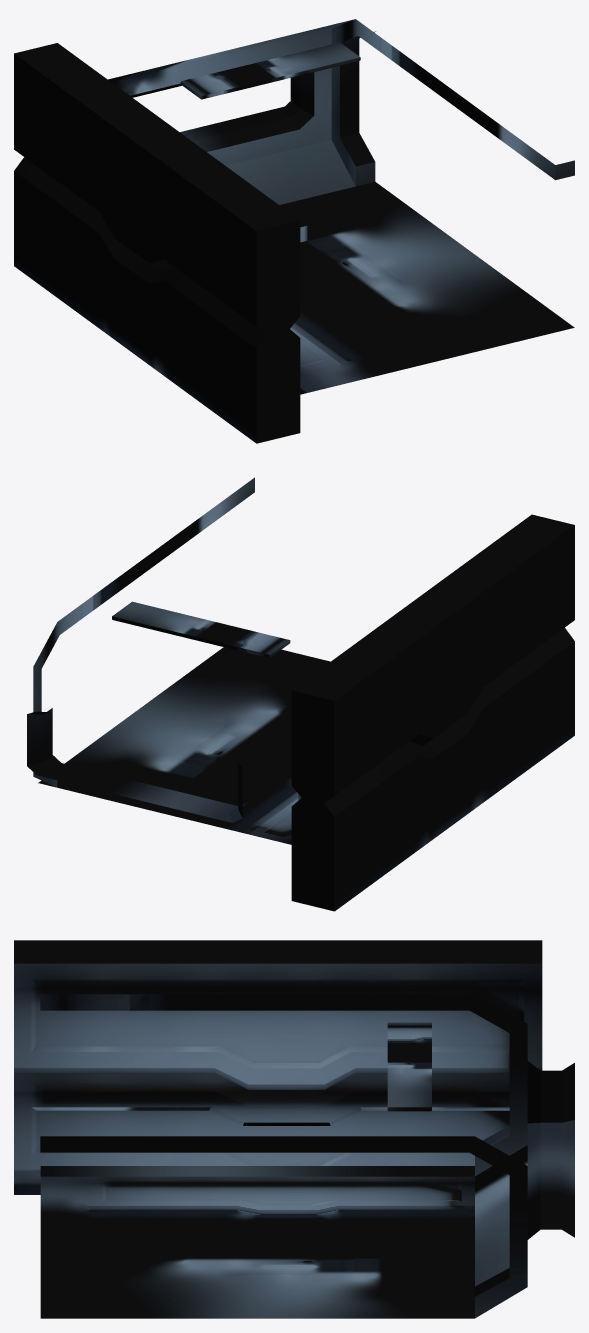
Rendered from spacePort_01.fbx.
3 views of the same model, one above another, from view 1: azimuth 30°, elevation 25°; view 2: azimuth 150°, elevation 25°; view 3: azimuth 270°, elevation 25° (orthographic). The views are drawn at different scales.
Parts seen in each view (by area): view 1: Door_Top, Floor, Door_Bottom, Wall, Light; view 2: Door_Top, Door_Bottom, Floor, Wall, Light; view 3: Floor, Door_Top, Door_Bottom, Wall, Gate_Wall, Light.
Part boxes in pixels (box(x1,y1,x2,y2)): Door_Top: box(14, 43, 300, 334); Floor: box(279, 181, 574, 392); Door_Bottom: box(14, 157, 300, 443); Wall: box(108, 19, 574, 204); Light: box(180, 42, 360, 99); Door_Top: box(291, 514, 574, 803); Door_Bottom: box(291, 627, 574, 911); Floor: box(38, 647, 330, 844); Wall: box(27, 477, 254, 822); Light: box(112, 601, 290, 658); Floor: box(40, 1176, 474, 1318); Door_Top: box(14, 940, 542, 1089); Door_Bottom: box(14, 1073, 509, 1194); Wall: box(40, 1061, 574, 1318); Gate_Wall: box(40, 994, 527, 1176); Light: box(387, 1022, 431, 1111).
Bounding box in the file's own units: 1072 × 659 × 1448.
